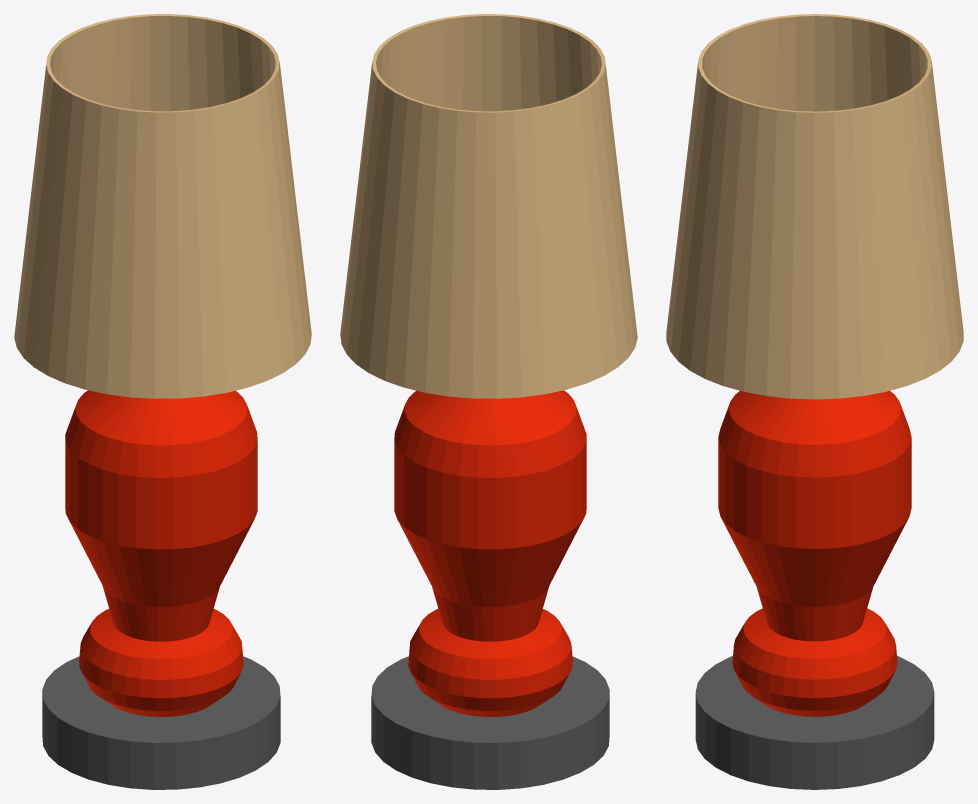
File: lamp.fbx
3 renders of one model, left to right at view 1: azimuth 30°, elevation 25°; view 2: azimuth 150°, elevation 25°; view 3: azimuth 270°, elevation 25°, orthographic.
Visible parts, largest first — view 1: Torus, Cylinder, Cylinder.003; view 2: Torus, Cylinder, Cylinder.003; view 3: Torus, Cylinder, Cylinder.003.
Boxes of the visible parts, x1=… form: Torus: x1=14, y1=14, x2=311, y2=398; Cylinder: x1=65, y1=390, x2=257, y2=716; Cylinder.003: x1=42, y1=656, x2=280, y2=789; Torus: x1=340, y1=14, x2=637, y2=398; Cylinder: x1=394, y1=390, x2=586, y2=716; Cylinder.003: x1=371, y1=656, x2=609, y2=789; Torus: x1=666, y1=14, x2=963, y2=399; Cylinder: x1=718, y1=391, x2=911, y2=716; Cylinder.003: x1=695, y1=656, x2=934, y2=789.
Size of the model in its own units: 270 by 678 by 270.
